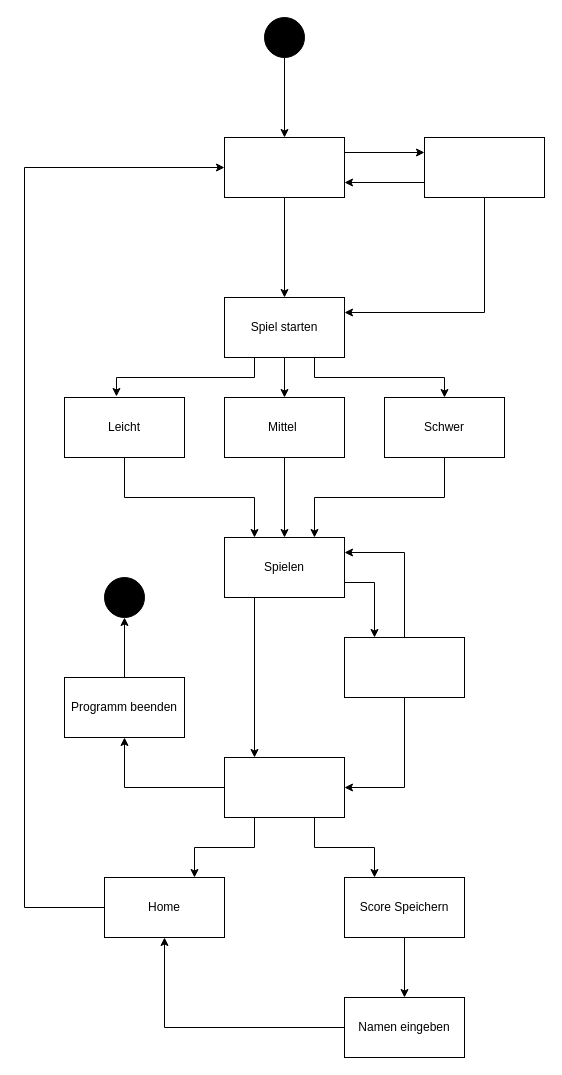
Image size: 562x1075. Some labels were removed from this diagram. The centre of each missing label's shape, as x and y in pixels:
"Highscores" goes at pixel 484 167.
"Pause" goes at pixel 404 667.
"Programm öffnen" goes at pixel 284 167.
"Spiel beenden" goes at pixel 284 787.
